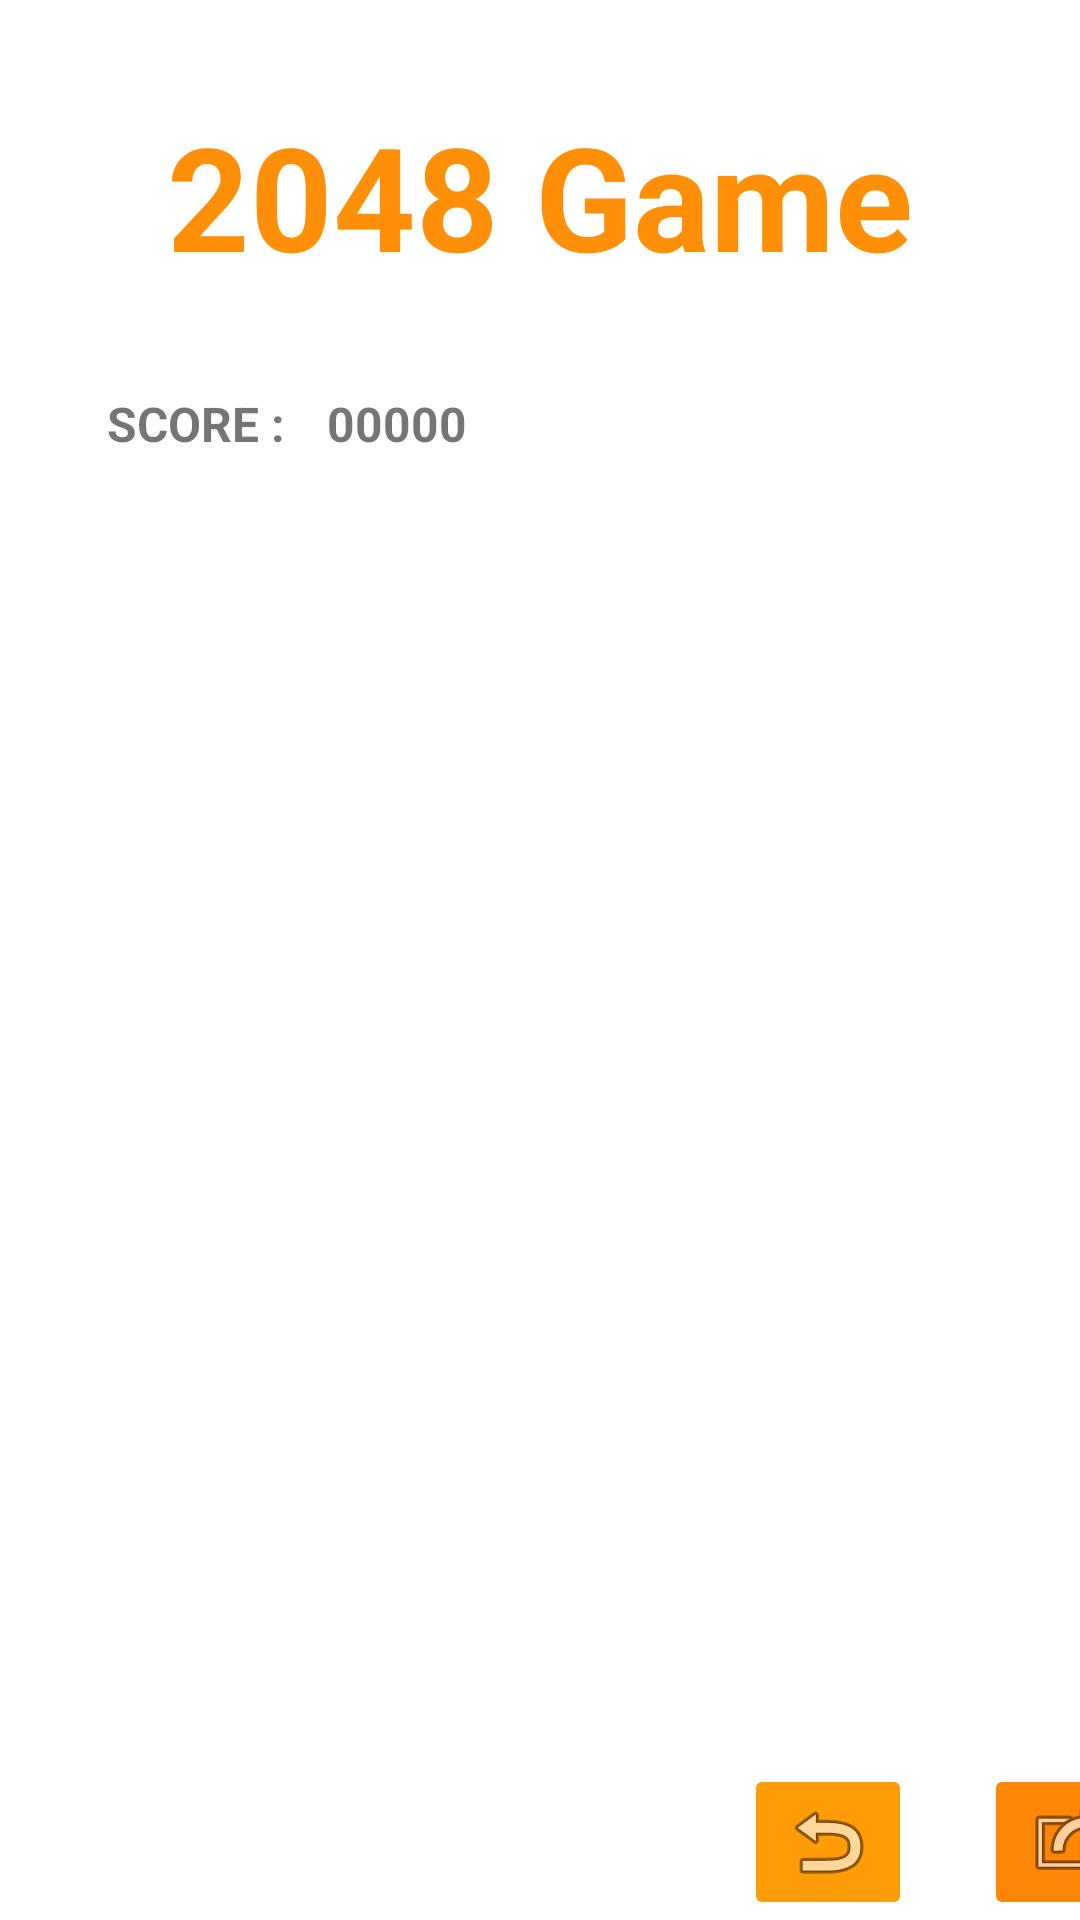

Screen size 1080×1920. Icon name, then its center in pixels as (x,y):
revert: (828,1842)
